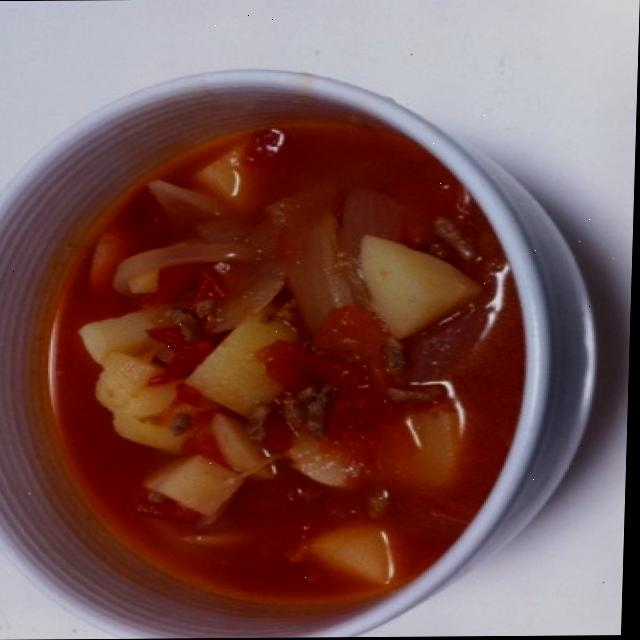蔬菜料理: (11, 47, 556, 637)
